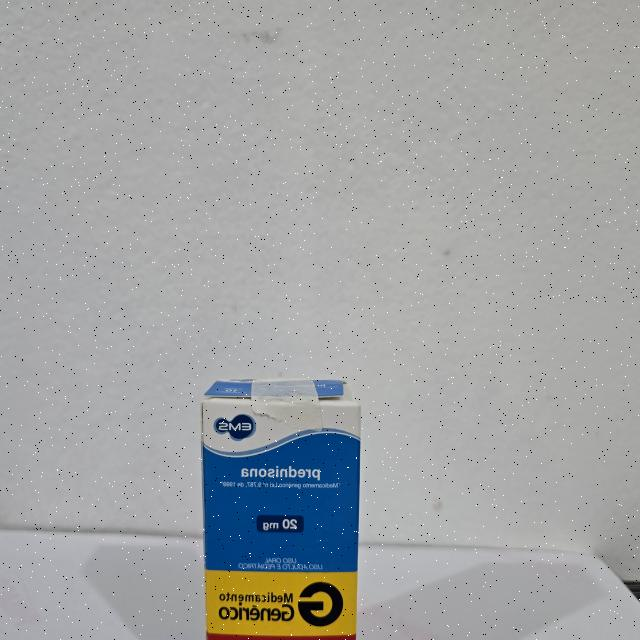prednisona: (197, 374, 366, 640)
